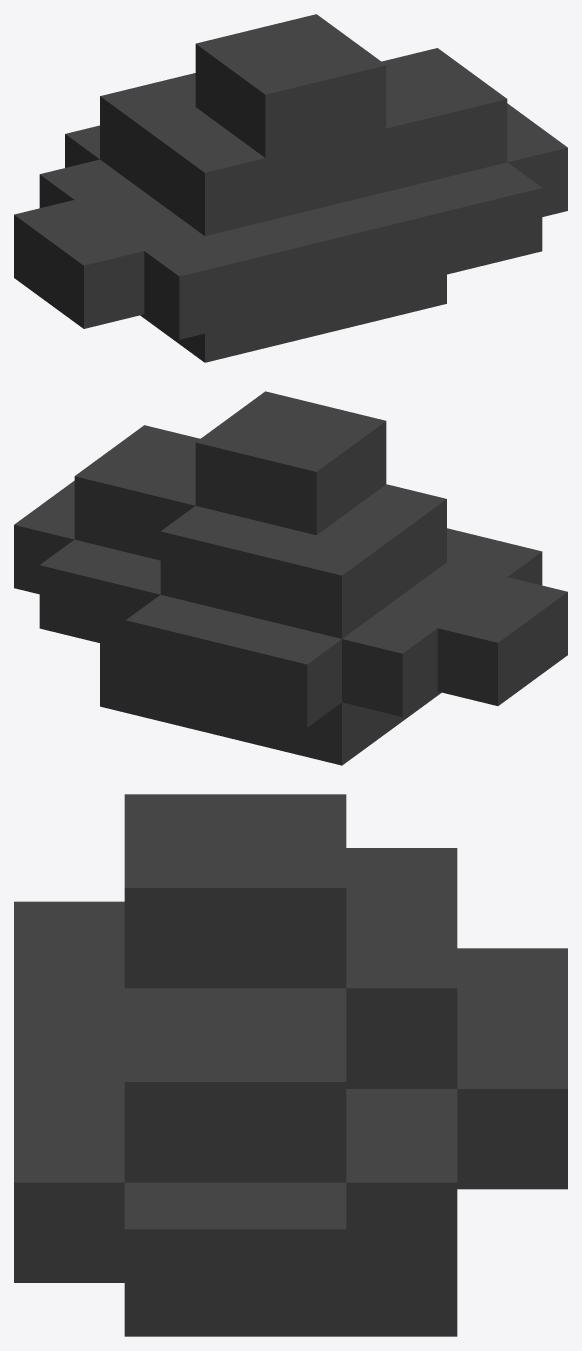
File: lvl3-18.obj
3 renders of one model, top to bottom at view 1: azimuth 30°, elevation 25°; view 2: azimuth 150°, elevation 25°; view 3: azimuth 270°, elevation 25°, orthographic. The views are drawn at different scales.
Bounding box in the file's own units: 0.8 × 0.4 × 0.5.
Materials: 1 (1 with a texture image).
